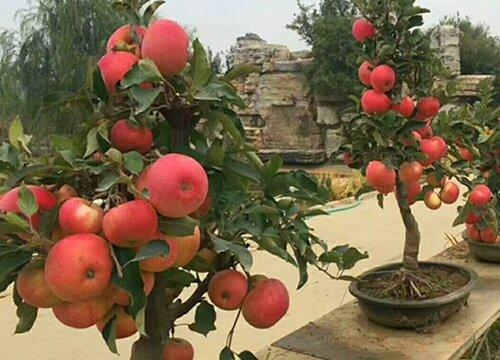apple: (42, 234, 115, 301), (147, 153, 210, 215), (101, 199, 159, 247), (241, 275, 291, 329), (141, 21, 190, 76), (15, 262, 62, 308), (57, 197, 103, 235), (206, 270, 248, 309), (103, 23, 148, 56), (153, 333, 196, 360), (360, 89, 390, 115), (369, 64, 395, 92), (398, 161, 422, 183), (423, 190, 440, 209)
